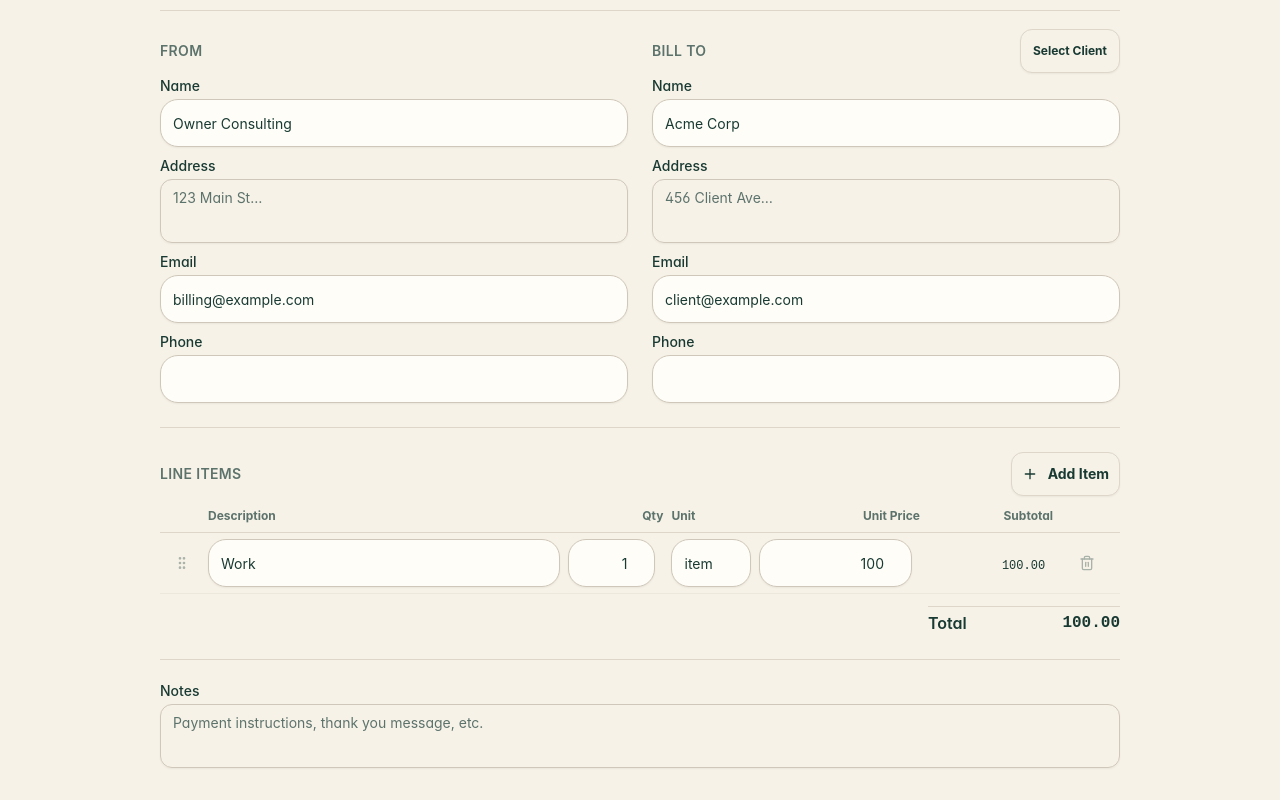
Test: InvoiceEditorPage drafts and guards › won't save a line item without a description
(page scrolled)
Clear the 7th field showing "Work" at {"x": 384, "y": 563}, box [208, 539, 560, 587]
(page scrolled)
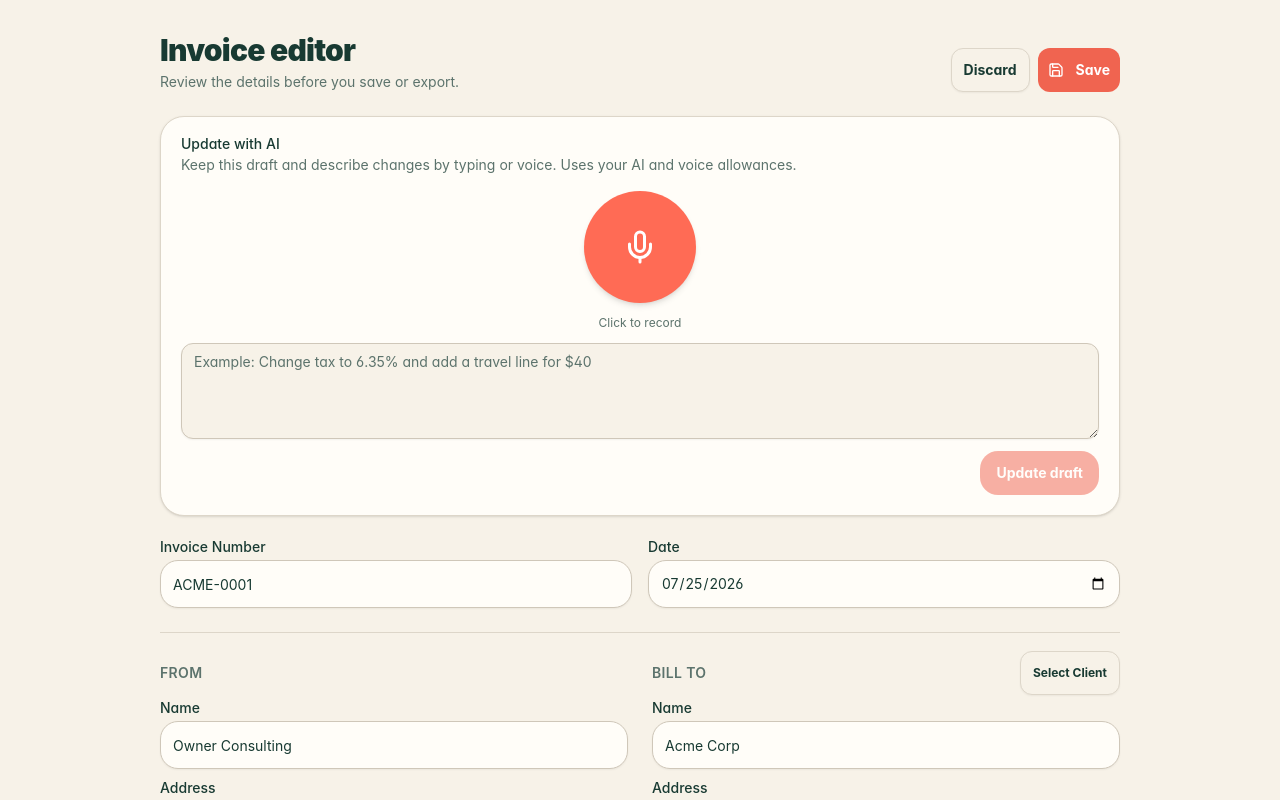
Click the button "Save".
click(1079, 70)  # box [1038, 48, 1120, 92]
(page scrolled)
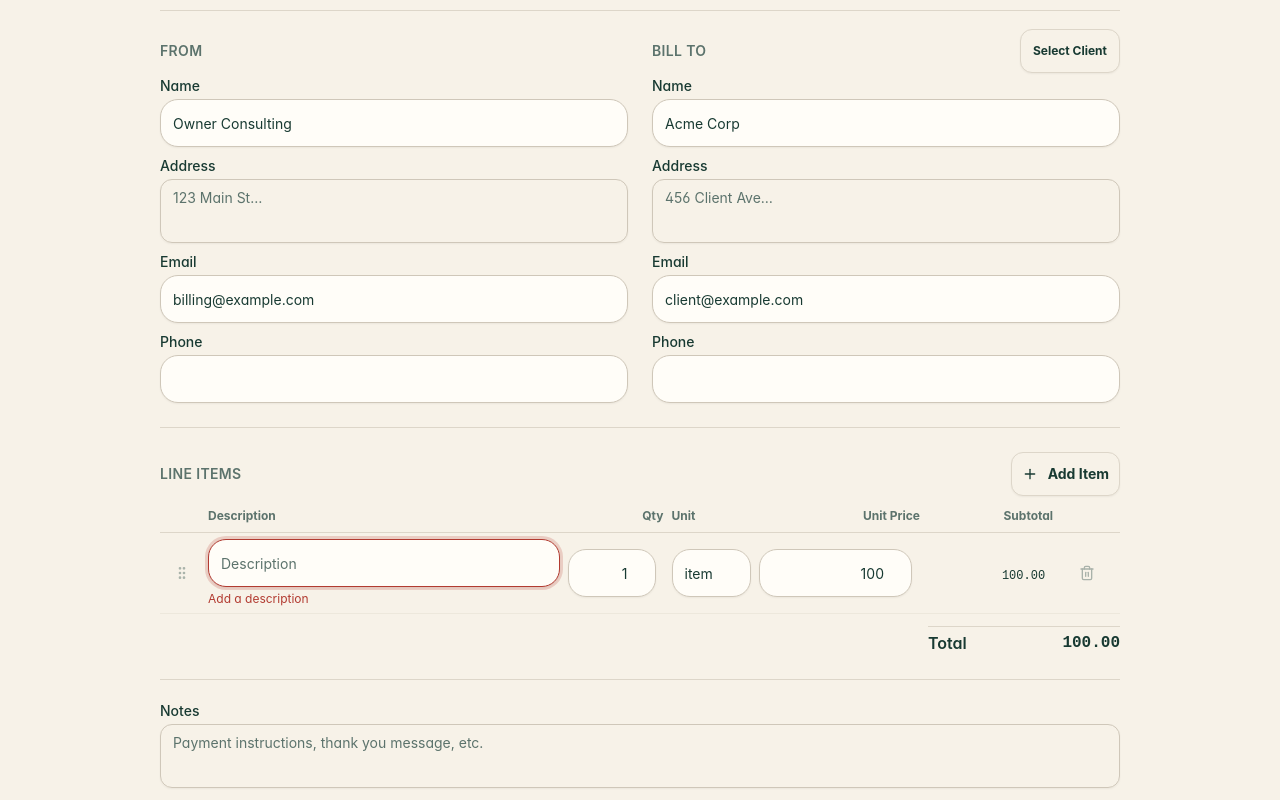
Now the text "Add a description" is shown, box [208, 591, 309, 606]
